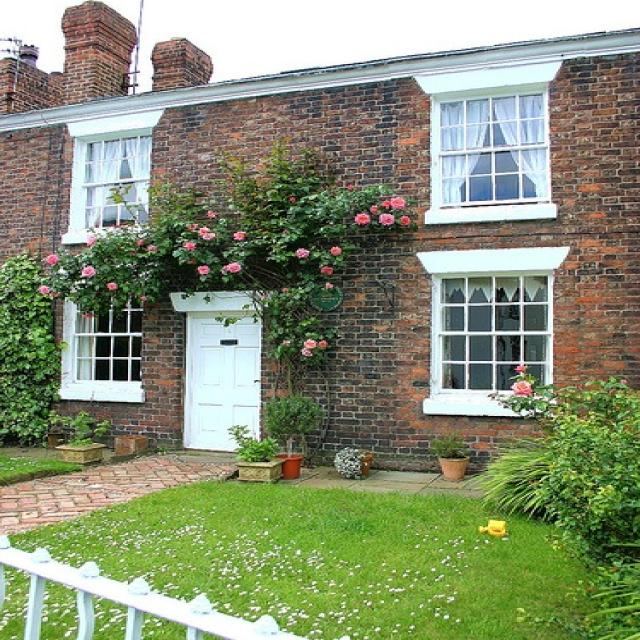pottedplant: (263, 390, 331, 482), (224, 421, 286, 487), (53, 411, 111, 465), (432, 433, 471, 480), (334, 448, 374, 479)
